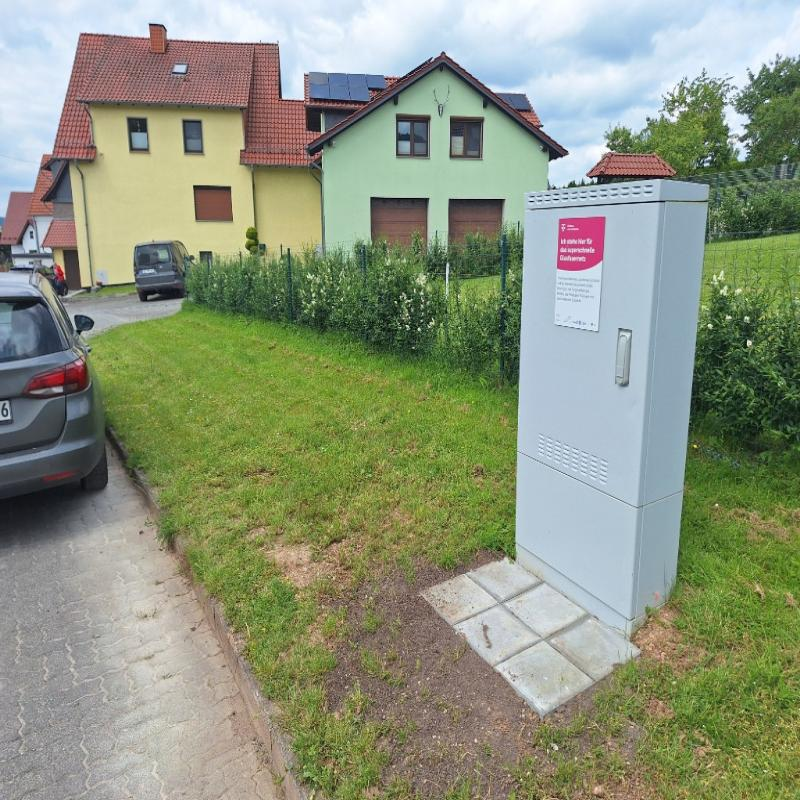NT-Gehause: (507, 181, 705, 643)
Steaker: (551, 216, 606, 335)
